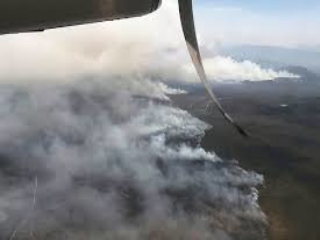smoke: (121, 82, 266, 232), (201, 50, 308, 87)
